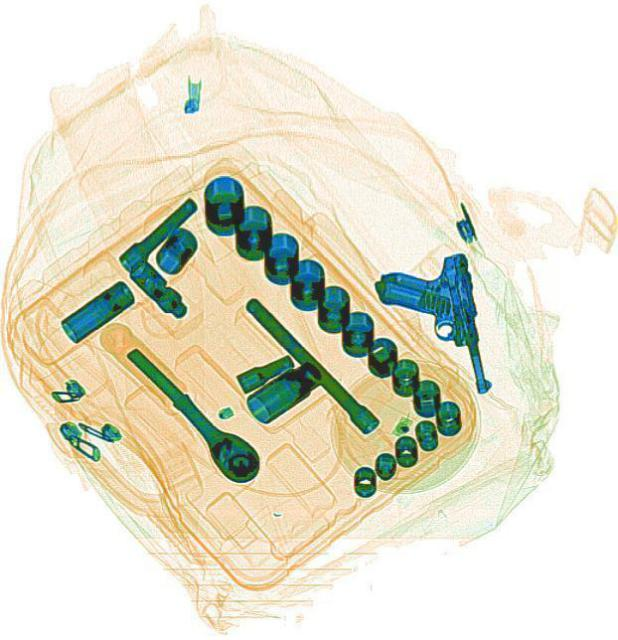Gun: (368, 250, 491, 404)
